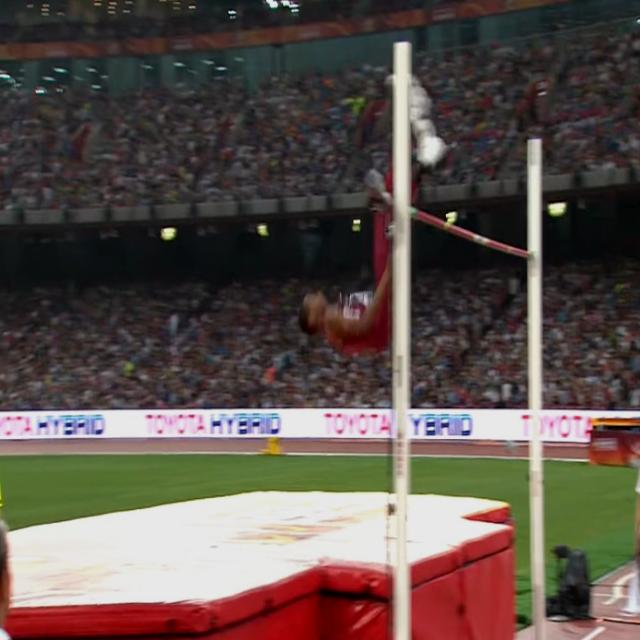land: (300, 74, 448, 350)
